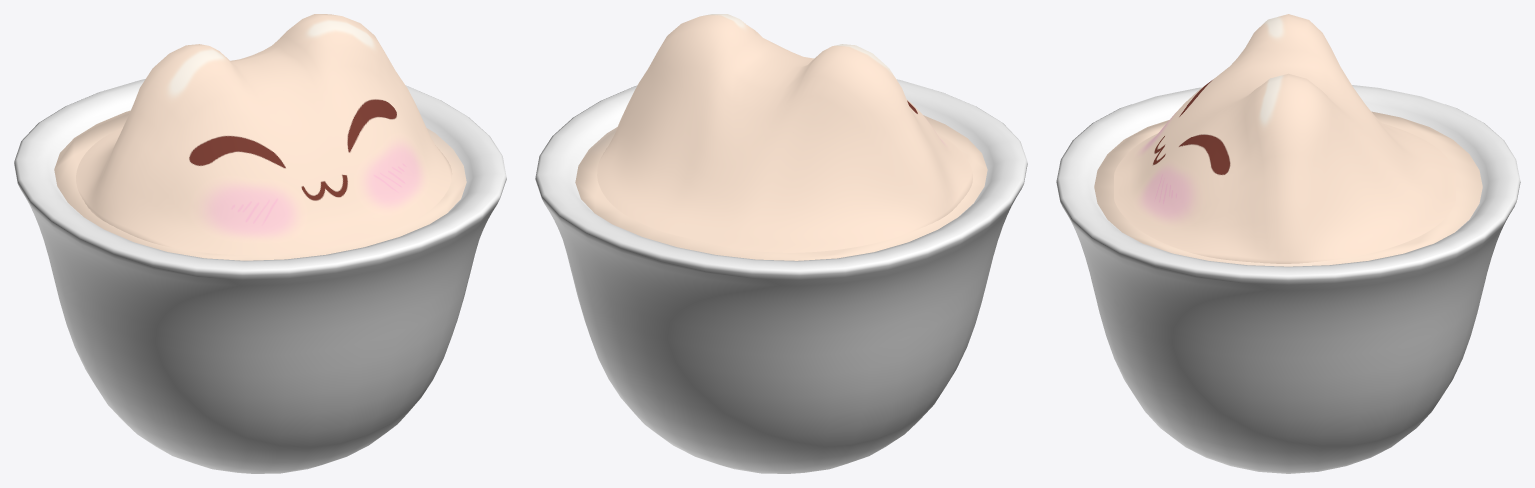
3 renders of one model, left to right at view 1: azimuth 30°, elevation 25°; view 2: azimuth 150°, elevation 25°; view 3: azimuth 270°, elevation 25°, orthographic. The views are drawn at different scales.
Parts seen in each view (by area): view 1: Cup, Face, Liquid; view 2: Cup, Face, Liquid; view 3: Cup, Face, Liquid.
Part boxes in pixels (<box>): Cup: <box>14,79,506,473</box>; Face: <box>76,14,452,255</box>; Liquid: <box>54,110,466,260</box>; Cup: <box>535,79,1027,473</box>; Face: <box>597,14,972,252</box>; Liquid: <box>575,115,987,260</box>; Cup: <box>1056,85,1520,473</box>; Face: <box>1114,14,1455,263</box>; Liquid: <box>1094,111,1482,266</box>.
Size of the model in its own units: 3.42 by 3.28 by 3.42.
Materials: 2 (2 with a texture image).
